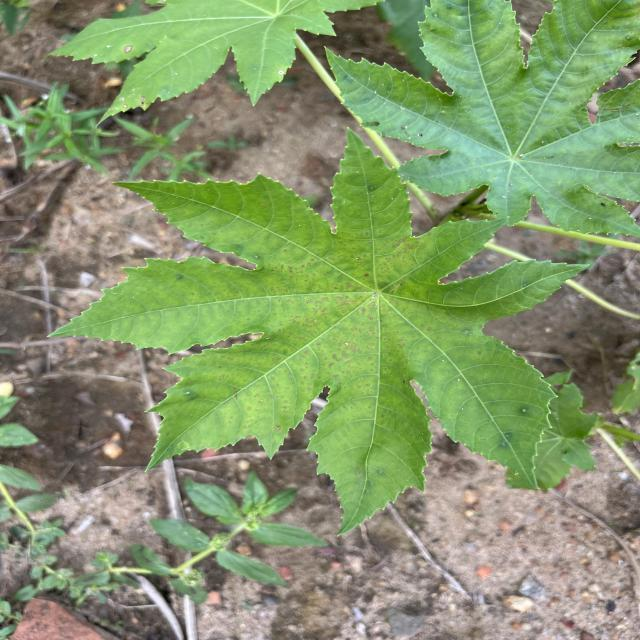Ricinus communis linn: (41, 121, 595, 540), (319, 0, 640, 241)
